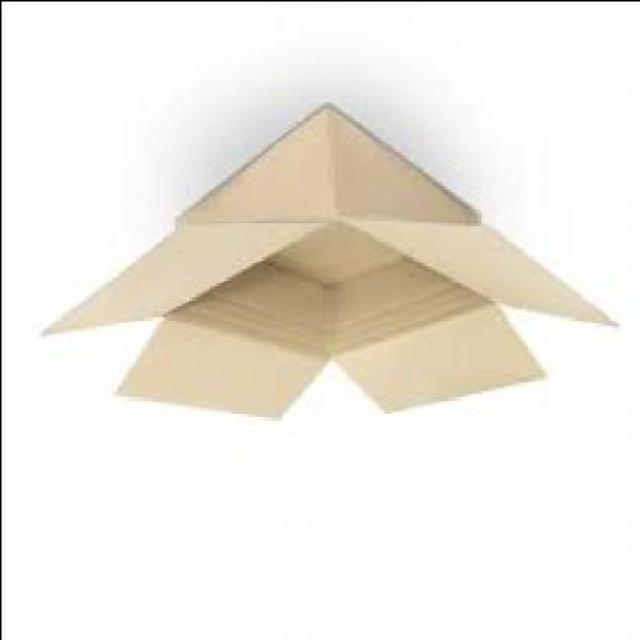CARDBOARD: (39, 102, 618, 421)
